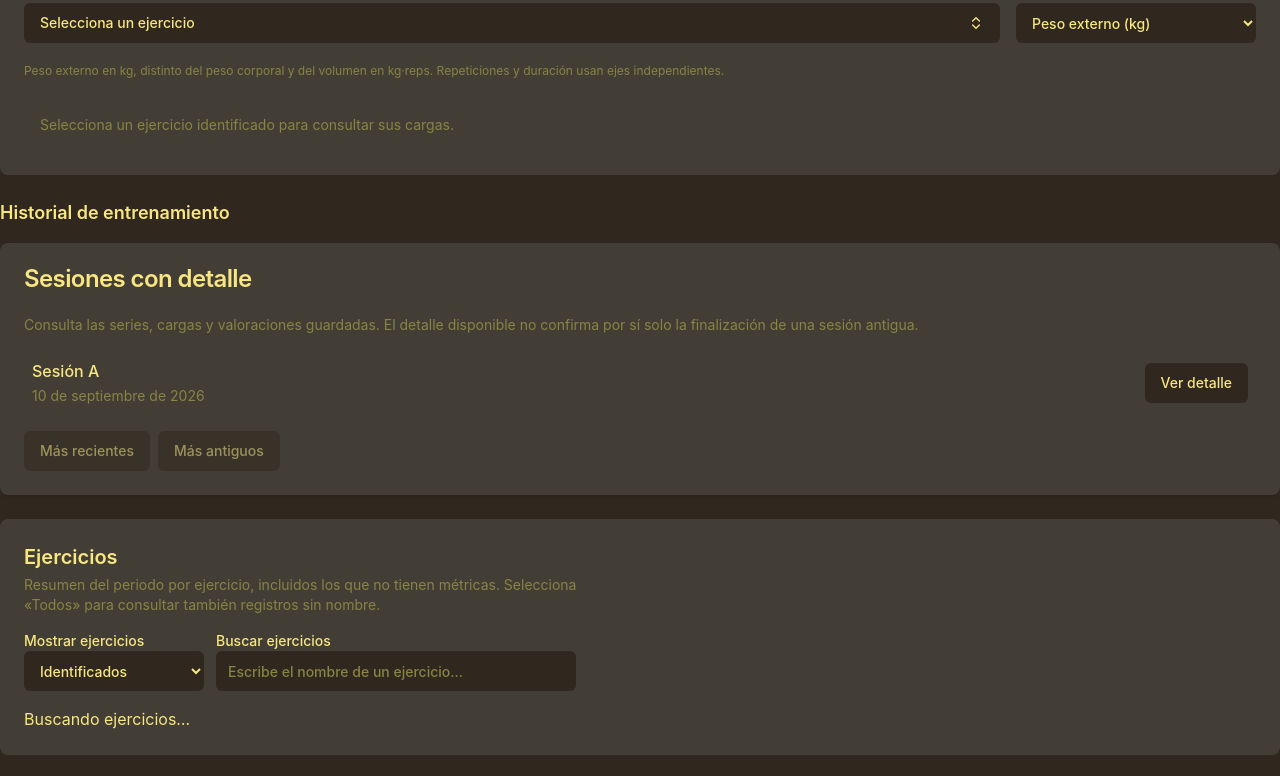
Test: TrainingProgressPanel › renders a null RPE and one session note above a timed set with RIR zero
(page scrolled)
Click the button with aria-label "Ver detalle de Sesión A" at (1196, 383), box [1144,363,1248,403]
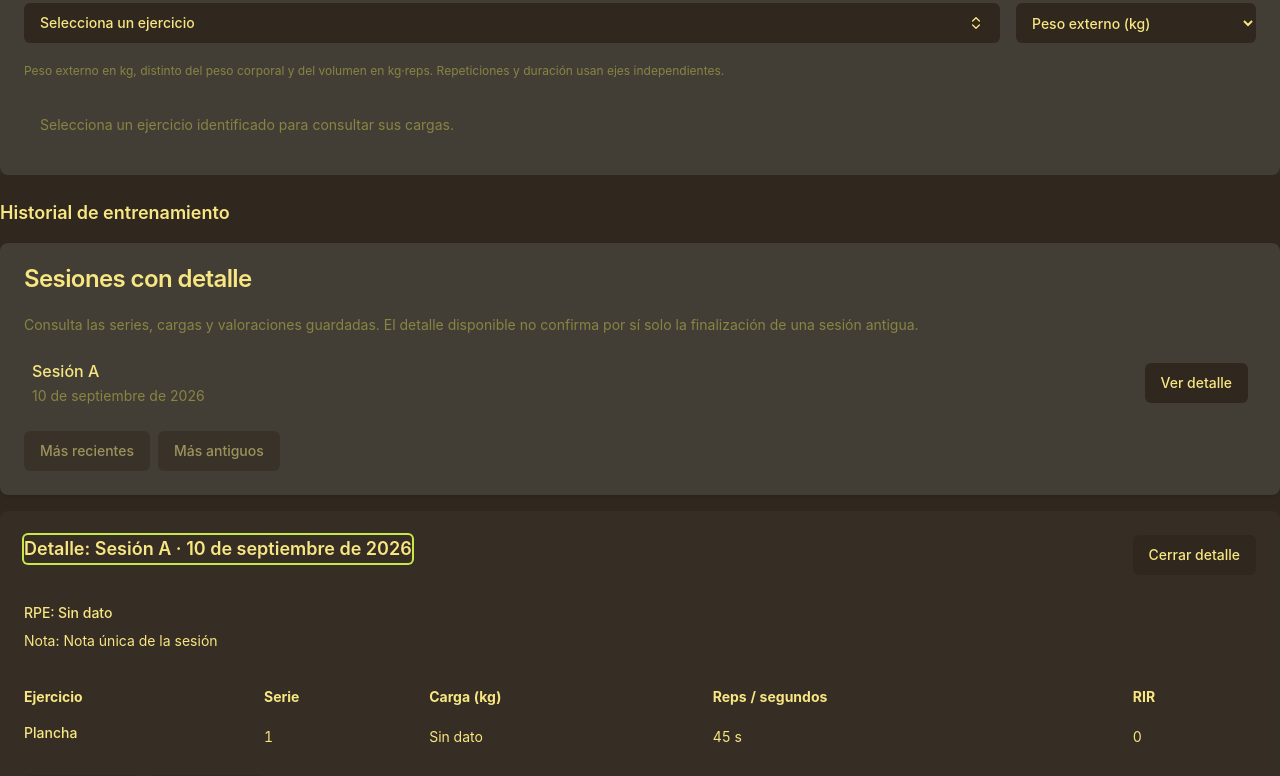
Now the text "RPE: Sin dato" is shown, box [24,604,112,621]
Now the text "45 s" is shown, box [713,715,1133,759]
Now the text "0" is shown, box [1133,715,1256,759]
